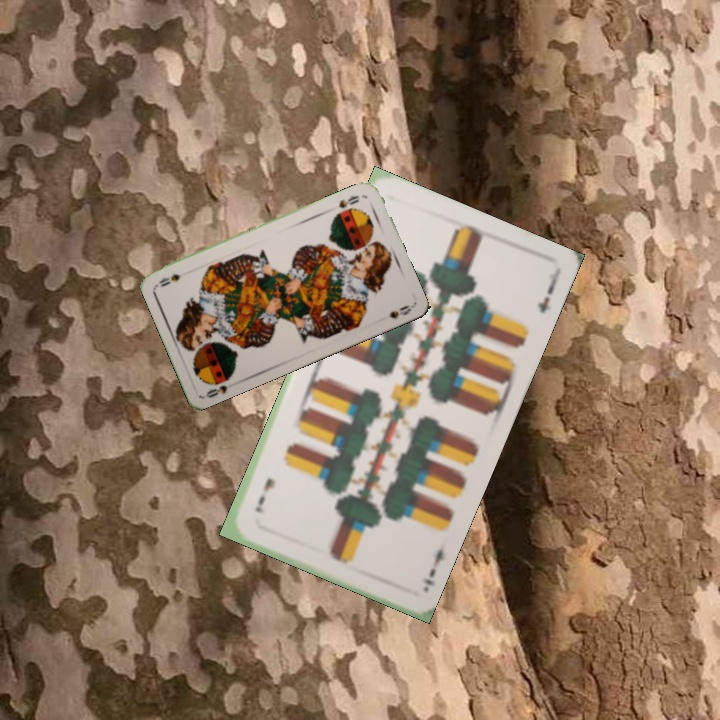E7: (419, 537, 447, 589)
SO: (334, 191, 362, 211), (202, 381, 231, 400)
